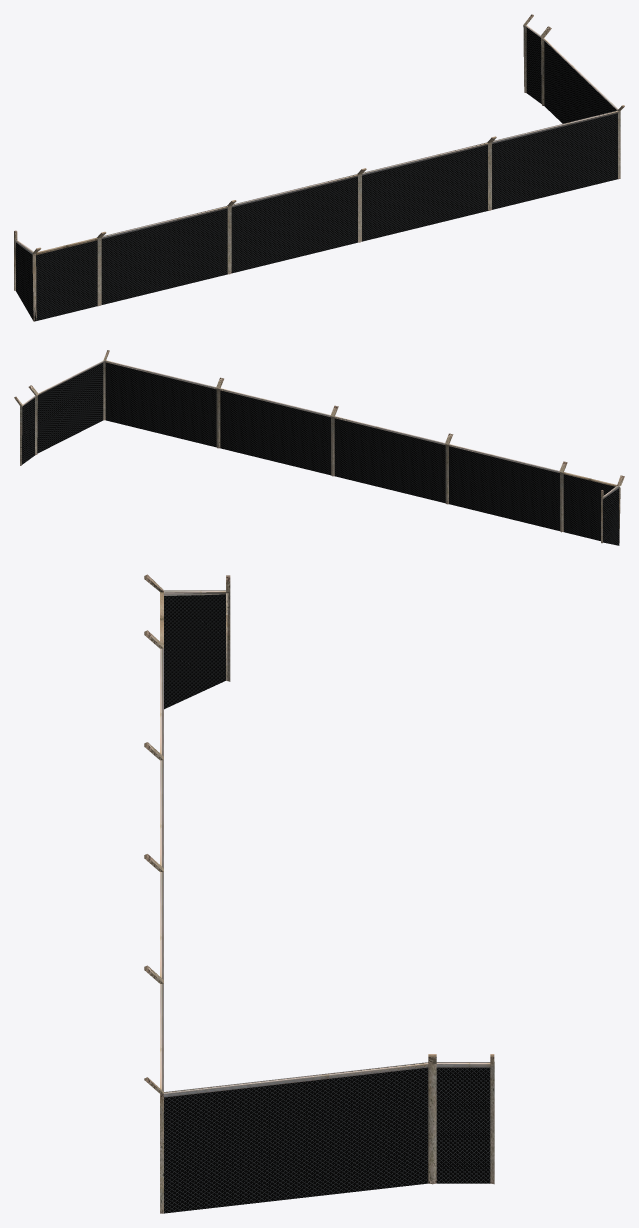
File: M11Z1_ChainFence_D.glb
3 renders of one model, top to bottom at view 1: azimuth 30°, elevation 25°; view 2: azimuth 150°, elevation 25°; view 3: azimuth 270°, elevation 25°, orthographic. The views are drawn at different scales.
Parts seen in each view (by area): view 1: M11Z1_CHAINFENCE_D; view 2: M11Z1_CHAINFENCE_D; view 3: M11Z1_CHAINFENCE_D.
Boxes of the visible parts, <box> form: M11Z1_CHAINFENCE_D: <box>14,14,624,321</box>; M11Z1_CHAINFENCE_D: <box>14,350,624,545</box>; M11Z1_CHAINFENCE_D: <box>144,574,494,1213</box>.
Bounding box in the file's own units: 36.59 × 5.5 × 10.59.
Materials: 4 (4 with a texture image).
